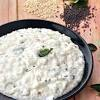curd_rice: (1, 23, 88, 93)
